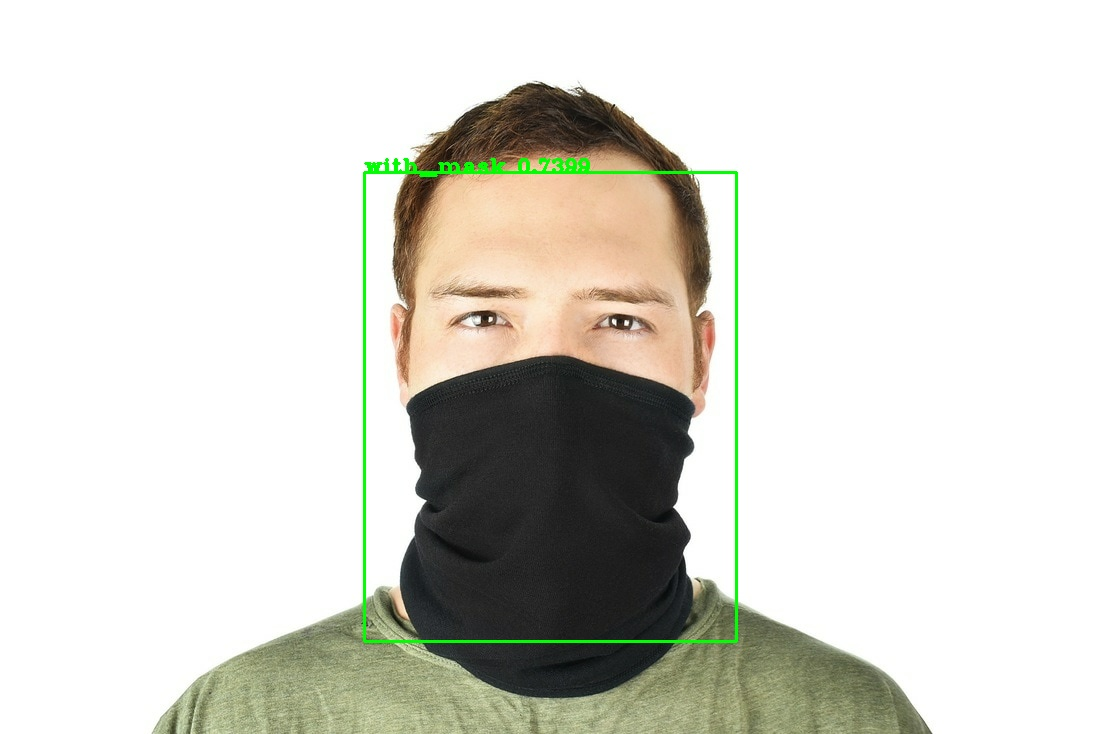with_mask: (366, 156, 718, 544)
